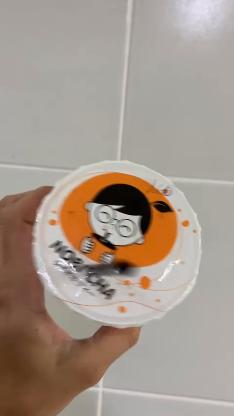Plastic Cup: (36, 160, 204, 326)
